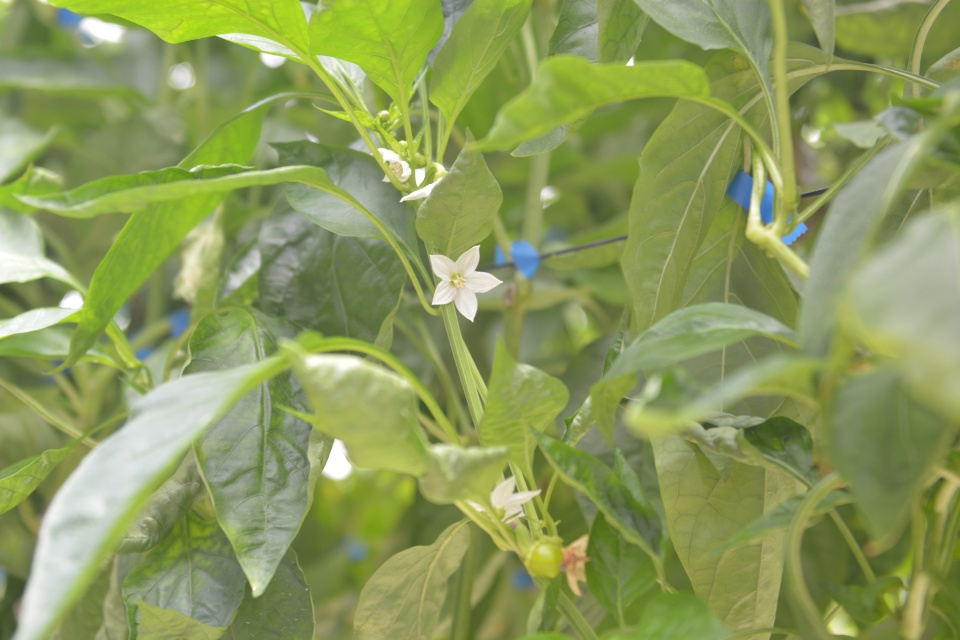flower: (426, 242, 505, 326), (462, 471, 543, 526), (368, 144, 414, 185)
